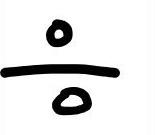div: (1, 19, 120, 116)
